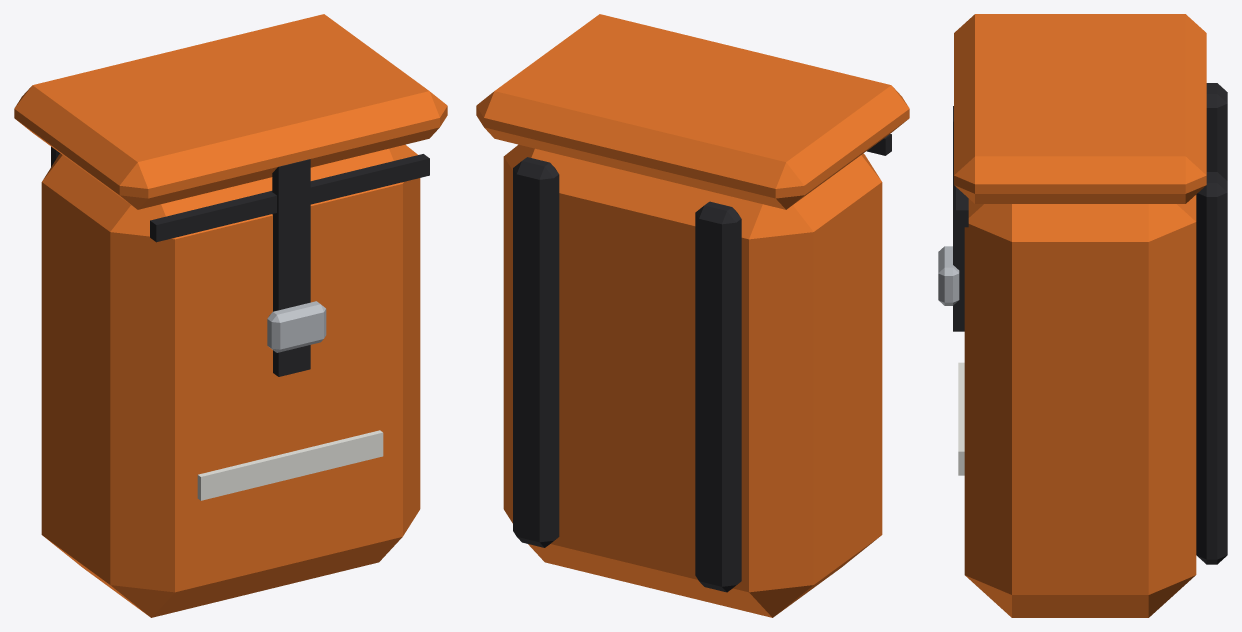
File: Pack_DryBag.glb
3 views of the same model, side by side, from view 1: azimuth 30°, elevation 25°; view 2: azimuth 150°, elevation 25°; view 3: azimuth 270°, elevation 25° (orthographic).
Parts seen in each view (by area): view 1: Bag_Body, Bag_Flap, Bag_FrontStrap, Bag_Zip, Bag_Patch, Bag_Buckle; view 2: Bag_Body, Bag_Flap, Bag_Strap_L, Bag_Strap_R; view 3: Bag_Body, Bag_Flap, Bag_Strap_R, Bag_Strap_L, Bag_FrontStrap, Bag_Buckle, Bag_Patch, Bag_Zip.
Boxes of the visible parts, x1,y1,x2,y2 form: Bag_Body: [41, 144, 420, 617]; Bag_Flap: [14, 14, 447, 209]; Bag_FrontStrap: [272, 159, 310, 376]; Bag_Zip: [150, 154, 429, 242]; Bag_Patch: [197, 430, 383, 500]; Bag_Buckle: [267, 301, 326, 352]; Bag_Body: [503, 144, 882, 617]; Bag_Flap: [476, 14, 909, 209]; Bag_Strap_L: [695, 201, 741, 592]; Bag_Strap_R: [513, 157, 559, 547]; Bag_Body: [964, 195, 1196, 617]; Bag_Flap: [954, 14, 1206, 203]; Bag_Strap_R: [1196, 172, 1227, 564]; Bag_Strap_L: [1206, 83, 1227, 180]; Bag_FrontStrap: [953, 106, 964, 331]; Bag_Buckle: [938, 246, 959, 305]; Bag_Patch: [958, 362, 964, 475]; Bag_Zip: [956, 187, 968, 227].
Bounding box in the file's own units: 0.36 × 0.5 × 0.275.
